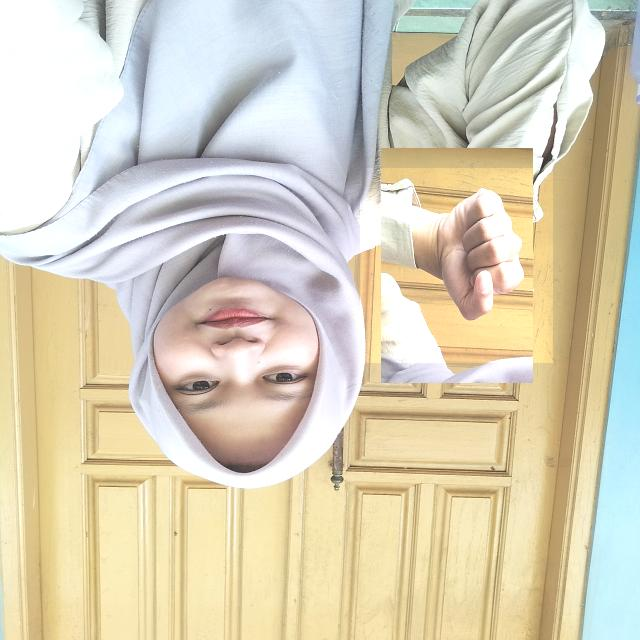baik: (360, 168, 553, 363)
